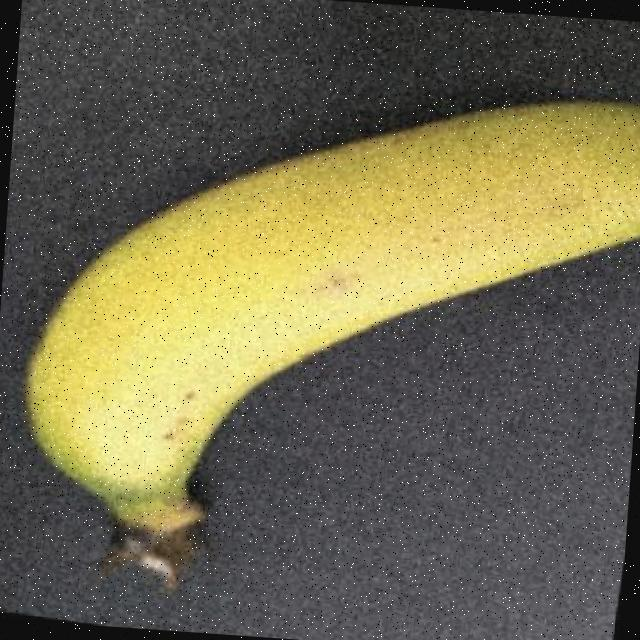Ripe: (0, 1, 640, 631)
